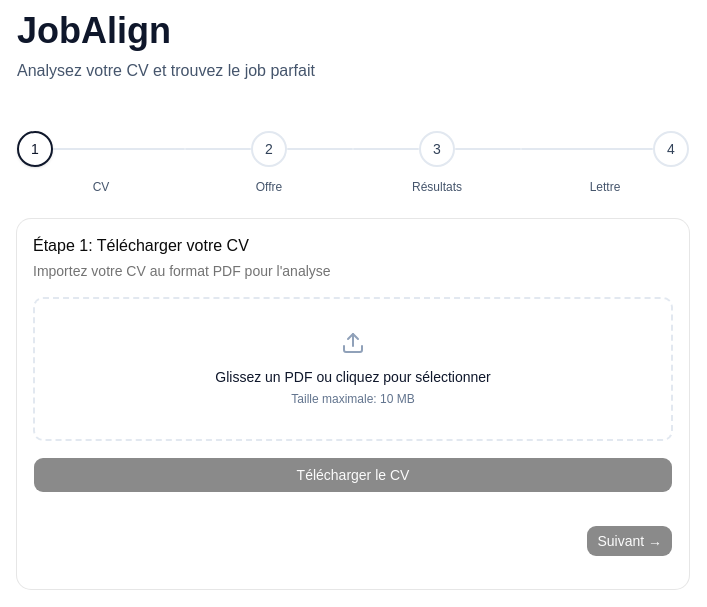
Test: JobAlign - CV Upload and Analysis › should display the job offer input section
Click the button named "Offre".
click(269, 149)  # box [251,131,287,167]
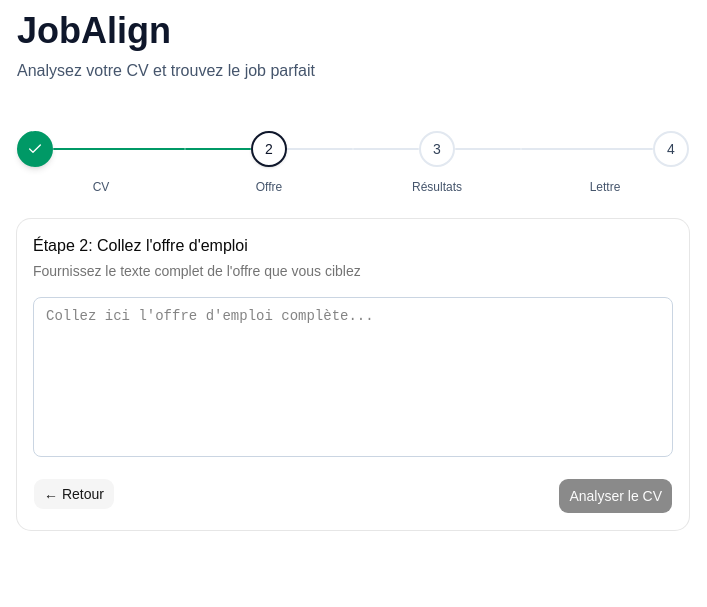
Expected: the text "Collez l'offre d'emploi" is shown, [33,237,248,254]
Expected: the text box with placeholder "Collez ici l" is shown, [33,297,673,457]
